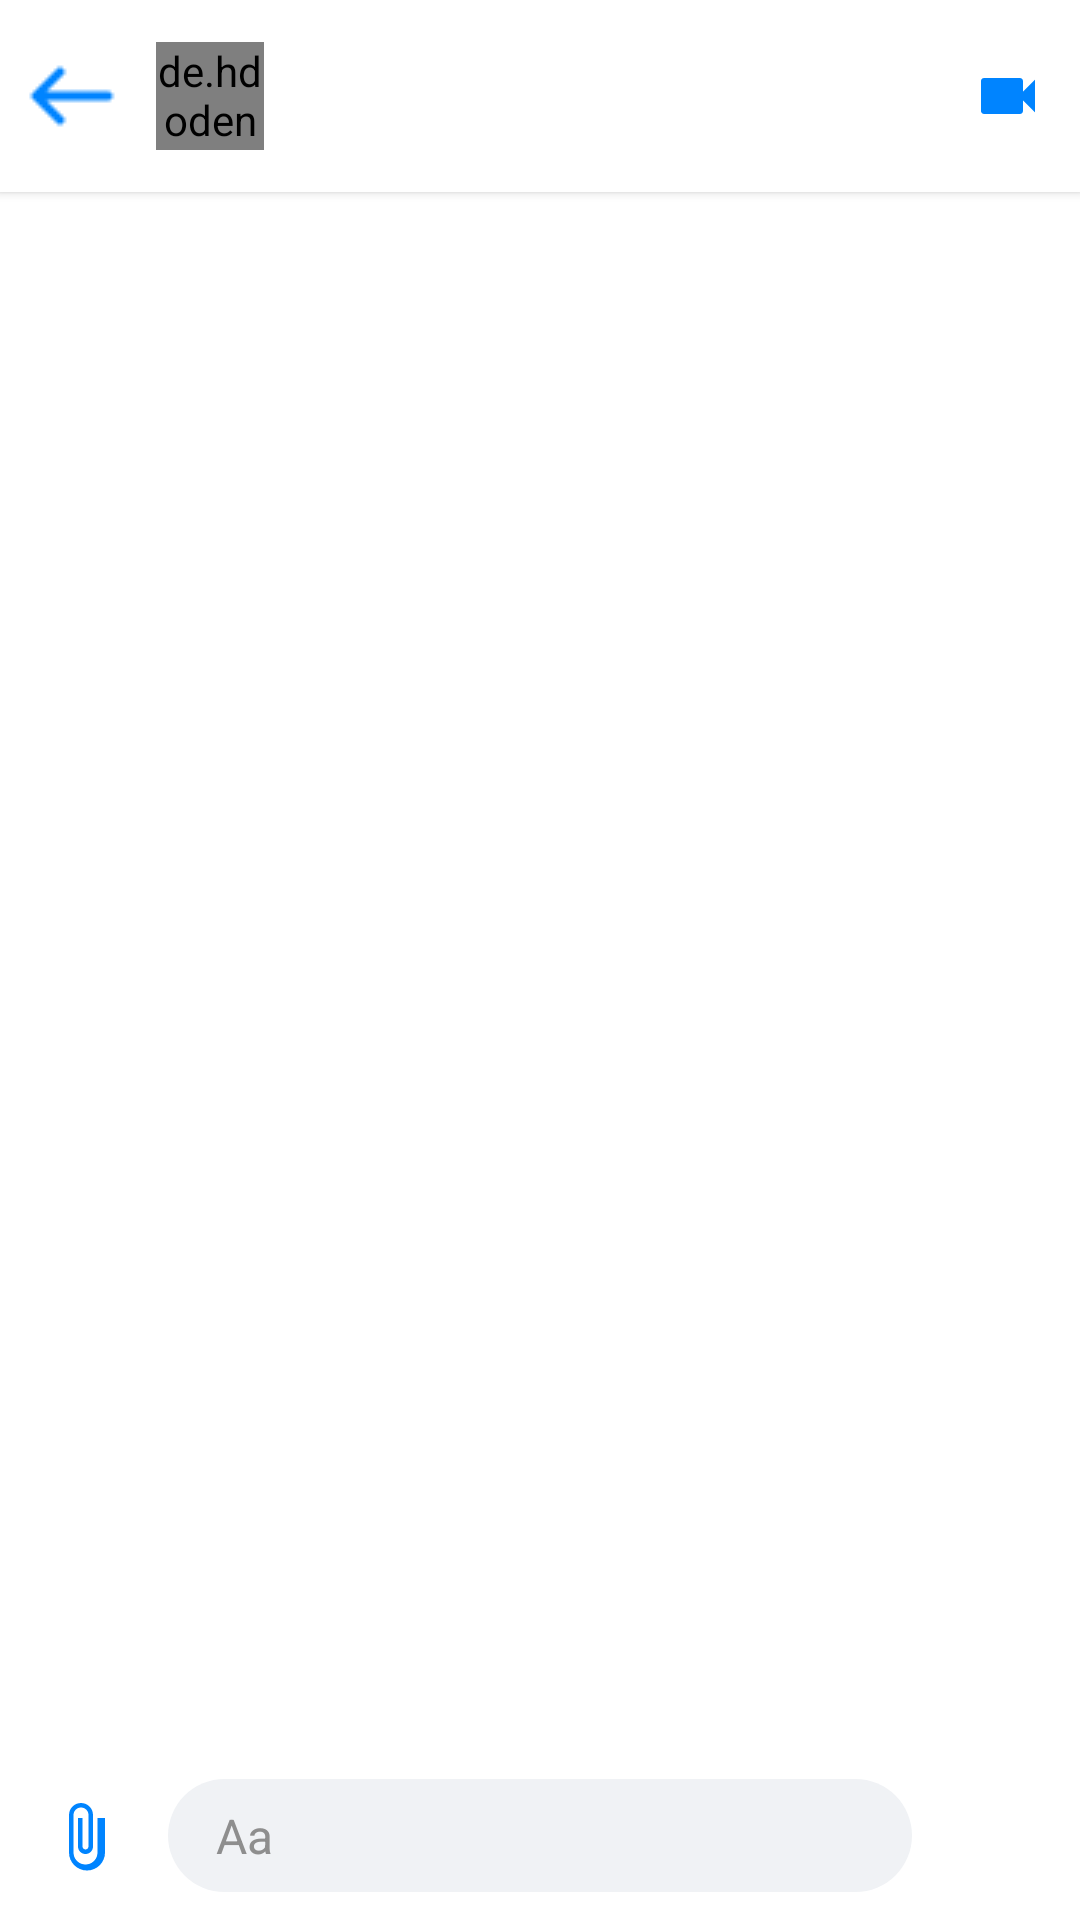

Where icons sit on this 1080w x 1920h app screen, as box=[x1, y1, x2, y2]:
Attach: box=[69, 1803, 105, 1871]
Back: box=[29, 65, 115, 127]
Video Call: box=[981, 78, 1035, 114]
